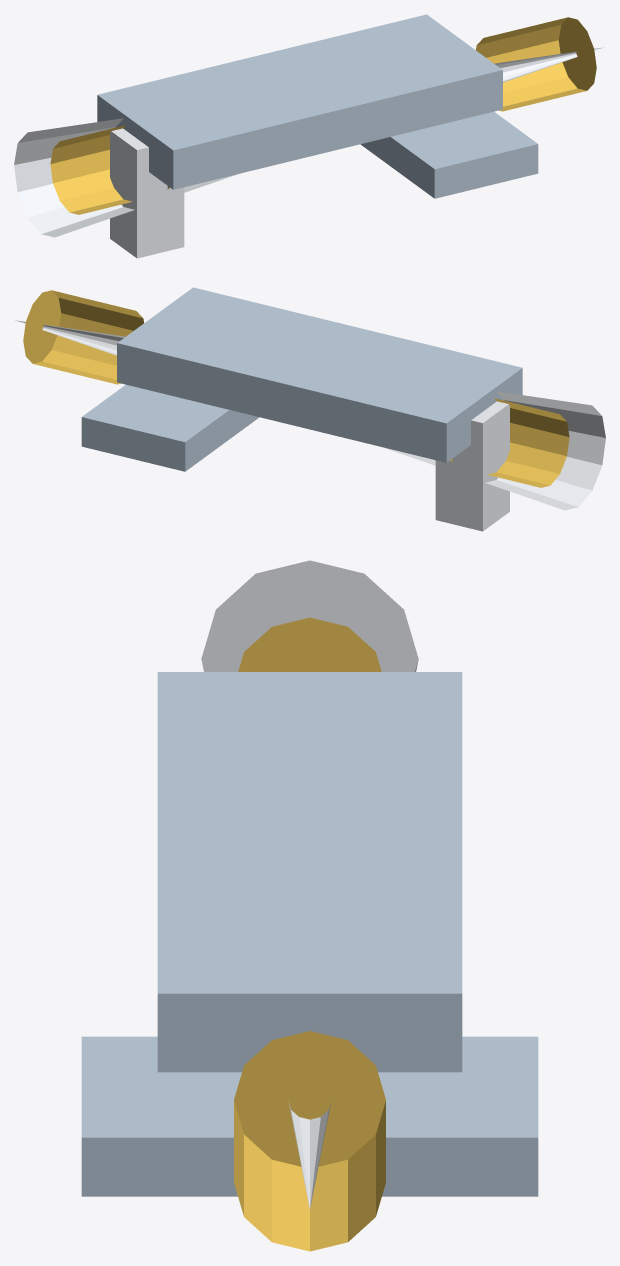
The model's file is minglora_private_jet.gltf.
3 views of the same model, one above another, from view 1: azimuth 30°, elevation 25°; view 2: azimuth 150°, elevation 25°; view 3: azimuth 270°, elevation 25° (orthographic). The views are drawn at different scales.
Visible parts, largest first — view 1: minglora_private_jet_1, minglora_private_jet_2, minglora_private_jet_0, minglora_private_jet_3, minglora_private_jet_5, minglora_private_jet_4; view 2: minglora_private_jet_1, minglora_private_jet_2, minglora_private_jet_0, minglora_private_jet_3, minglora_private_jet_5, minglora_private_jet_4; view 3: minglora_private_jet_1, minglora_private_jet_2, minglora_private_jet_5, minglora_private_jet_0, minglora_private_jet_4.
Boxes of the visible parts, left/top/right/bottom form: minglora_private_jet_1: left=97, top=14, right=502, bottom=189; minglora_private_jet_2: left=360, top=111, right=538, bottom=198; minglora_private_jet_0: left=14, top=47, right=604, bottom=237; minglora_private_jet_3: left=110, top=128, right=184, bottom=258; minglora_private_jet_5: left=476, top=17, right=596, bottom=111; minglora_private_jet_4: left=50, top=125, right=169, bottom=214; minglora_private_jet_1: left=117, top=287, right=522, bottom=462; minglora_private_jet_2: left=81, top=384, right=259, bottom=471; minglora_private_jet_0: left=15, top=320, right=605, bottom=510; minglora_private_jet_3: left=435, top=401, right=509, bottom=531; minglora_private_jet_5: left=23, top=290, right=143, bottom=384; minglora_private_jet_4: left=450, top=398, right=569, bottom=487; minglora_private_jet_1: left=157, top=672, right=462, bottom=1072; minglora_private_jet_2: left=81, top=1036, right=538, bottom=1196; minglora_private_jet_5: left=234, top=1031, right=385, bottom=1251; minglora_private_jet_0: left=201, top=560, right=418, bottom=1208; minglora_private_jet_4: left=238, top=617, right=381, bottom=671.
Bounding box in the file's own units: 2.4 × 0.54 × 0.84.
